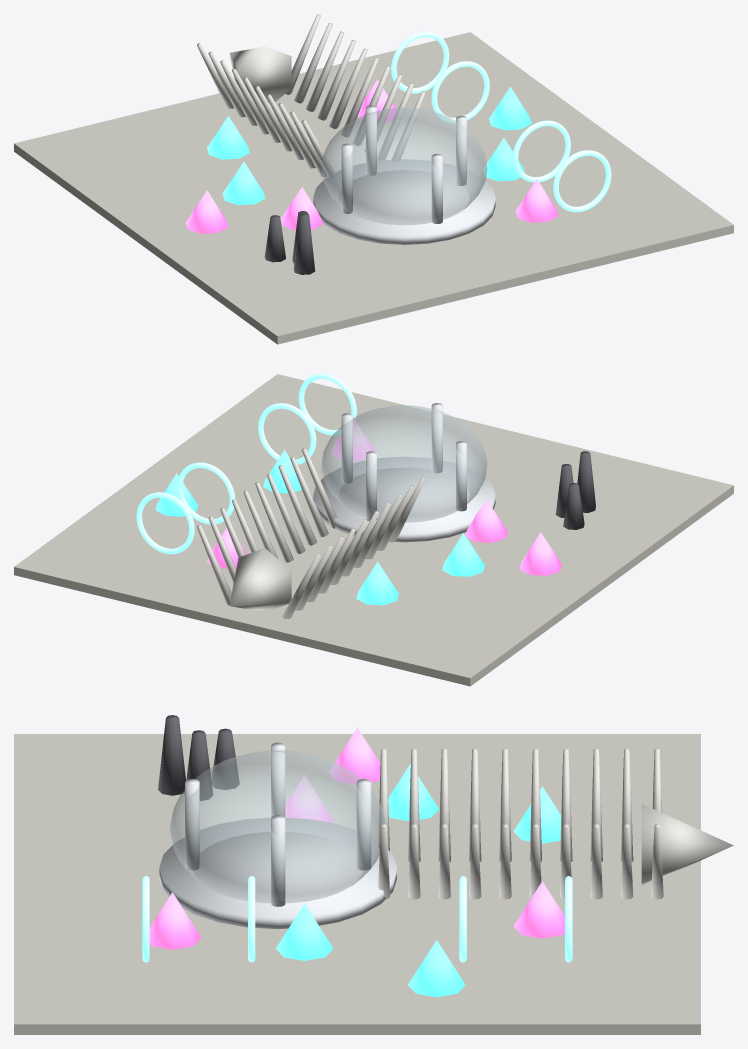
File: atlans_thalassa.glb
The picture shows the model from 3 angles, top to bottom: view 1: azimuth 30°, elevation 25°; view 2: azimuth 150°, elevation 25°; view 3: azimuth 270°, elevation 25°; orthographic projection. The views are drawn at different scales.
Parts seen in each view (by area): view 1: Atlans_OceanFloor, Atlans_AirDome, Atlans_NacarSanctuaryBase, Atlans_LeviathanSkull, Atlans_CoralReef_3, Atlans_CoralReef_5, Atlans_CoralReef_8, Atlans_CoralReef_7, Atlans_CoralReef_2, Atlans_SlipstreamRing_1, Atlans_SlipstreamRing_2, Atlans_BlackSmoker_3 (+17 smaller); view 2: Atlans_OceanFloor, Atlans_AirDome, Atlans_NacarSanctuaryBase, Atlans_LeviathanSkull, Atlans_CoralReef_2, Atlans_CoralReef_5, Atlans_CoralReef_7, Atlans_CoralReef_1, Atlans_SlipstreamRing_4, Atlans_SlipstreamRing_3, Atlans_SlipstreamRing_2, Atlans_SlipstreamRing_1 (+18 smaller); view 3: Atlans_OceanFloor, Atlans_AirDome, Atlans_NacarSanctuaryBase, Atlans_LeviathanSkull, Atlans_CoralReef_8, Atlans_CoralReef_4, Atlans_CoralReef_3, Atlans_CoralReef_6, Atlans_CoralReef_7, Atlans_BlackSmoker_3, Atlans_NacarPillar_2, Atlans_CoralReef_2 (+30 smaller).
Part boxes in pixels (x1=…): Atlans_OceanFloor: x1=14, y1=32, x2=733, y2=344; Atlans_AirDome: x1=321, y1=107, x2=487, y2=224; Atlans_NacarSanctuaryBase: x1=313, y1=159, x2=495, y2=244; Atlans_LeviathanSkull: x1=229, y1=46, x2=291, y2=104; Atlans_CoralReef_3: x1=515, y1=179, x2=558, y2=222; Atlans_CoralReef_5: x1=207, y1=116, x2=249, y2=159; Atlans_CoralReef_8: x1=489, y1=86, x2=531, y2=130; Atlans_CoralReef_7: x1=185, y1=190, x2=228, y2=233; Atlans_CoralReef_2: x1=222, y1=161, x2=265, y2=205; Atlans_SlipstreamRing_1: x1=553, y1=150, x2=611, y2=212; Atlans_SlipstreamRing_2: x1=512, y1=120, x2=570, y2=182; Atlans_BlackSmoker_3: x1=293, y1=213, x2=315, y2=274; Atlans_OceanFloor: x1=14, y1=374, x2=733, y2=686; Atlans_AirDome: x1=321, y1=405, x2=487, y2=522; Atlans_NacarSanctuaryBase: x1=313, y1=457, x2=495, y2=542; Atlans_LeviathanSkull: x1=229, y1=548, x2=291, y2=610; Atlans_CoralReef_2: x1=442, y1=533, x2=484, y2=576; Atlans_CoralReef_5: x1=356, y1=561, x2=398, y2=605; Atlans_CoralReef_7: x1=519, y1=532, x2=562, y2=575; Atlans_CoralReef_1: x1=465, y1=499, x2=507, y2=542; Atlans_SlipstreamRing_4: x1=136, y1=492, x2=194, y2=554; Atlans_SlipstreamRing_3: x1=177, y1=462, x2=235, y2=524; Atlans_SlipstreamRing_2: x1=258, y1=403, x2=316, y2=464; Atlans_SlipstreamRing_1: x1=298, y1=373, x2=356, y2=435; Atlans_OceanFloor: x1=14, y1=734, x2=700, y2=1034; Atlans_AirDome: x1=170, y1=750, x2=385, y2=902; Atlans_NacarSanctuaryBase: x1=159, y1=818, x2=396, y2=929; Atlans_LeviathanSkull: x1=641, y1=804, x2=733, y2=885; Atlans_CoralReef_8: x1=408, y1=940, x2=465, y2=997; Atlans_CoralReef_4: x1=275, y1=903, x2=333, y2=960; Atlans_CoralReef_3: x1=149, y1=892, x2=201, y2=949; Atlans_CoralReef_6: x1=513, y1=881, x2=564, y2=938; Atlans_CoralReef_7: x1=329, y1=727, x2=380, y2=784; Atlans_BlackSmoker_3: x1=158, y1=715, x2=185, y2=795; Atlans_NacarPillar_2: x1=356, y1=779, x2=371, y2=870; Atlans_CoralReef_2: x1=388, y1=764, x2=438, y2=821.
Bounding box in the file's own units: 52 × 10.66 × 54.5.
